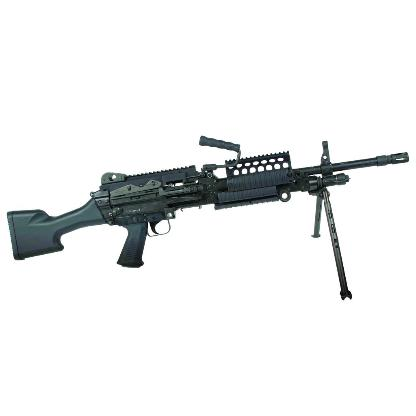gun: (6, 135, 408, 299)
